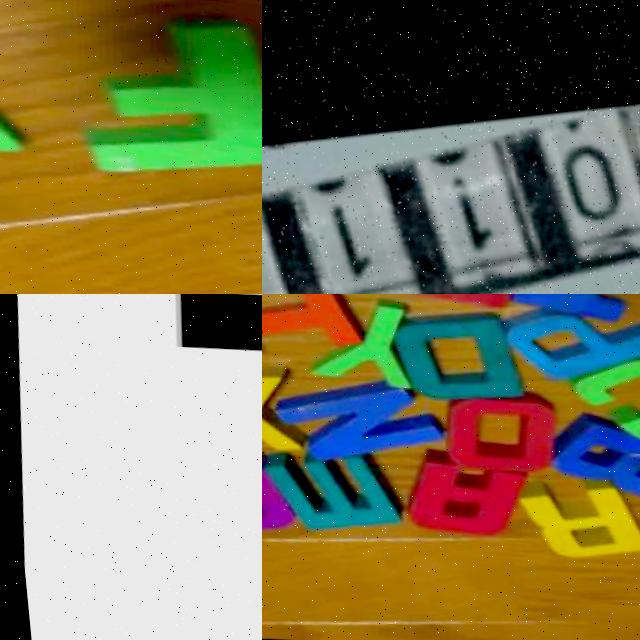0: (544, 132, 636, 241)
1: (300, 189, 383, 292), (432, 168, 507, 261)
A: (398, 468, 503, 539)
B: (539, 418, 640, 501)
C: (565, 354, 640, 449)
D: (383, 306, 512, 406)
F: (53, 20, 262, 189)
I: (262, 294, 366, 364)
L: (137, 294, 262, 640)
M: (264, 452, 385, 538)
N: (270, 380, 422, 460)
O: (436, 393, 549, 478)
P: (490, 305, 640, 388)
R: (511, 481, 640, 560)
T: (505, 294, 621, 319)
X: (262, 368, 292, 458)
Y: (308, 296, 412, 396)
